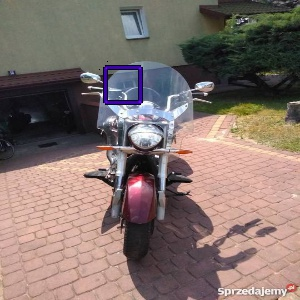square: (102, 63, 144, 106)
